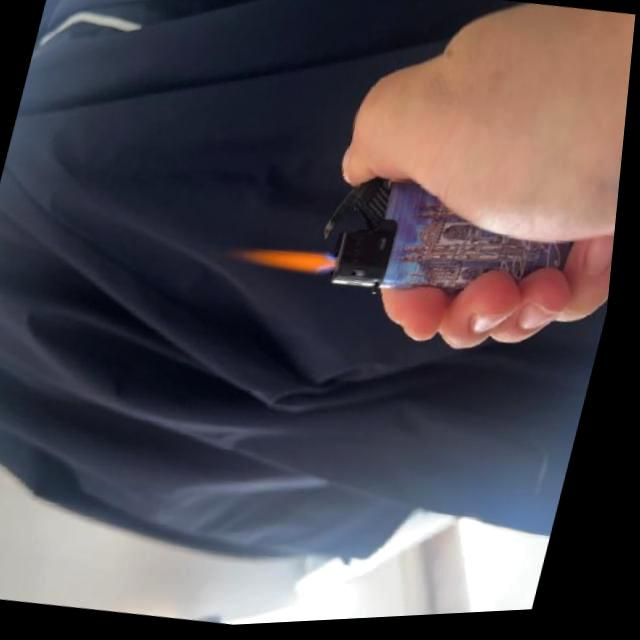fire: (236, 235, 342, 282)
